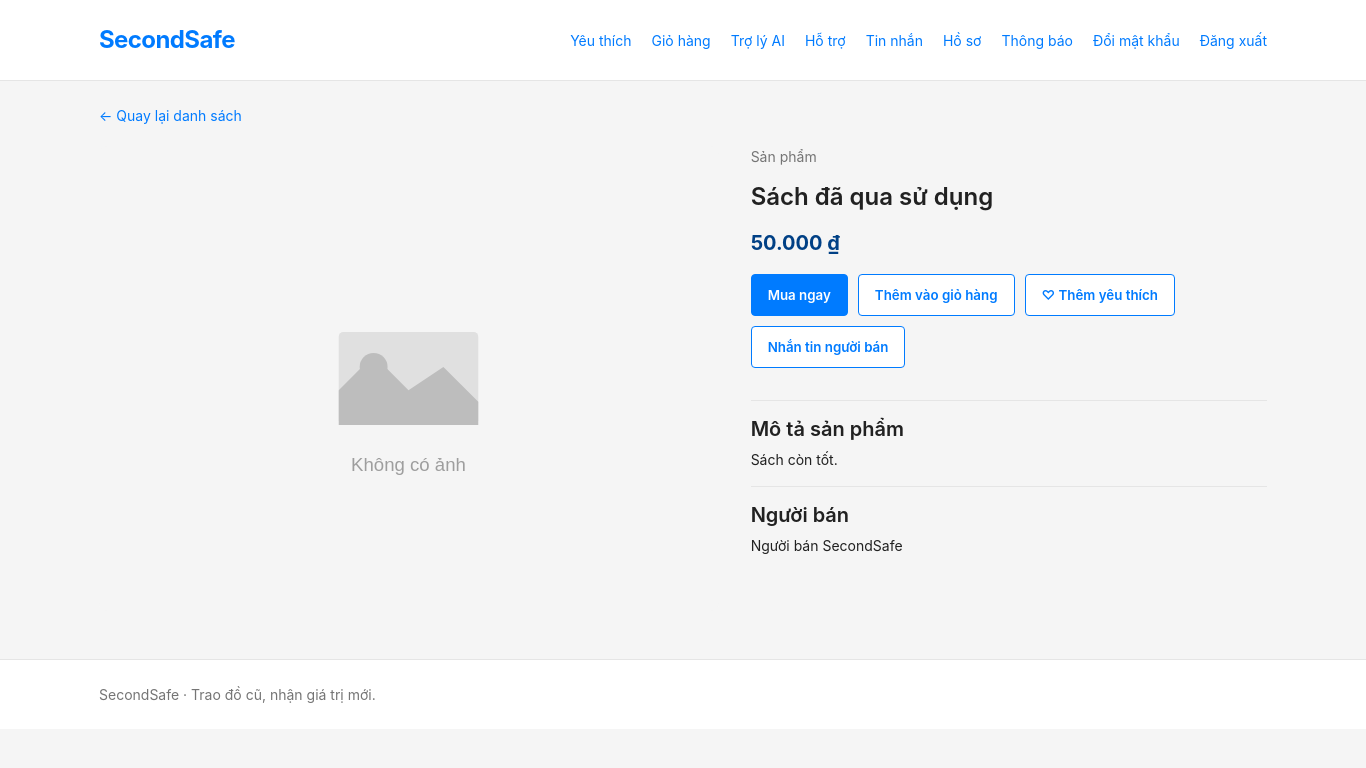
Test case: buyers can confirm a quick purchase and receive the created order reference
Expected: the heading "Sách đã qua sử dụng" is shown, [751,182,993,211]
Click the button "Mua ngay".
click(799, 295)  # box [751,274,848,316]
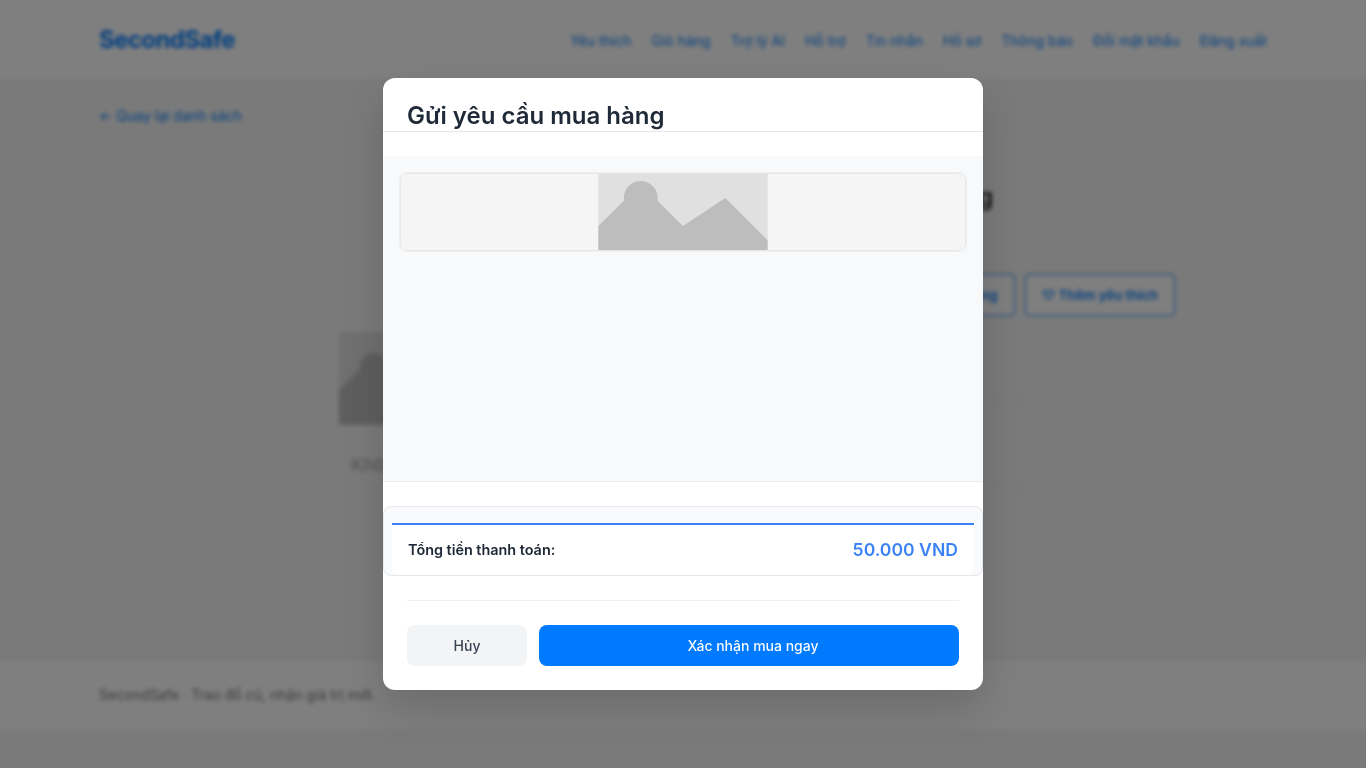
Click the button "Xác nhận mua ngay".
click(749, 646)  # box [539,625,959,666]
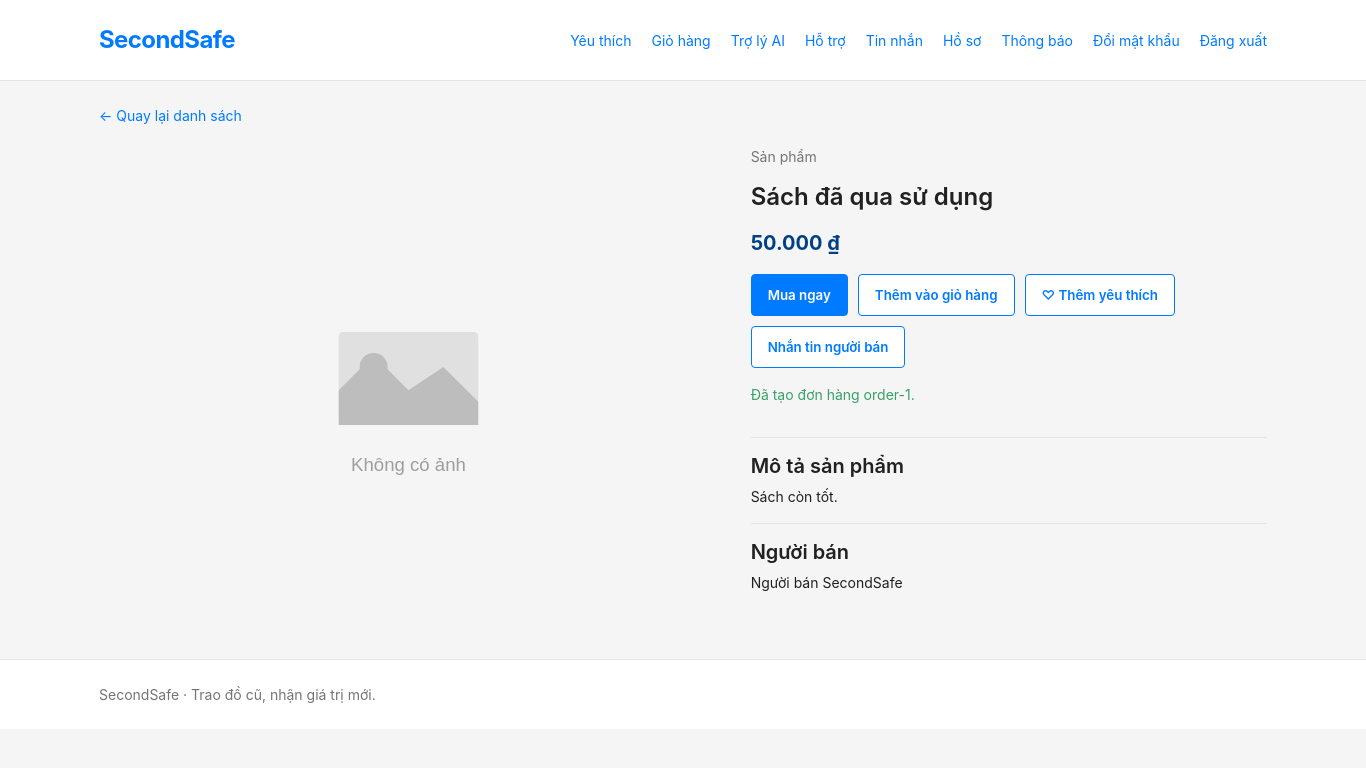
Expected: the text "Đã tạo đơn hàng order-1." is shown, [751,386,915,403]
